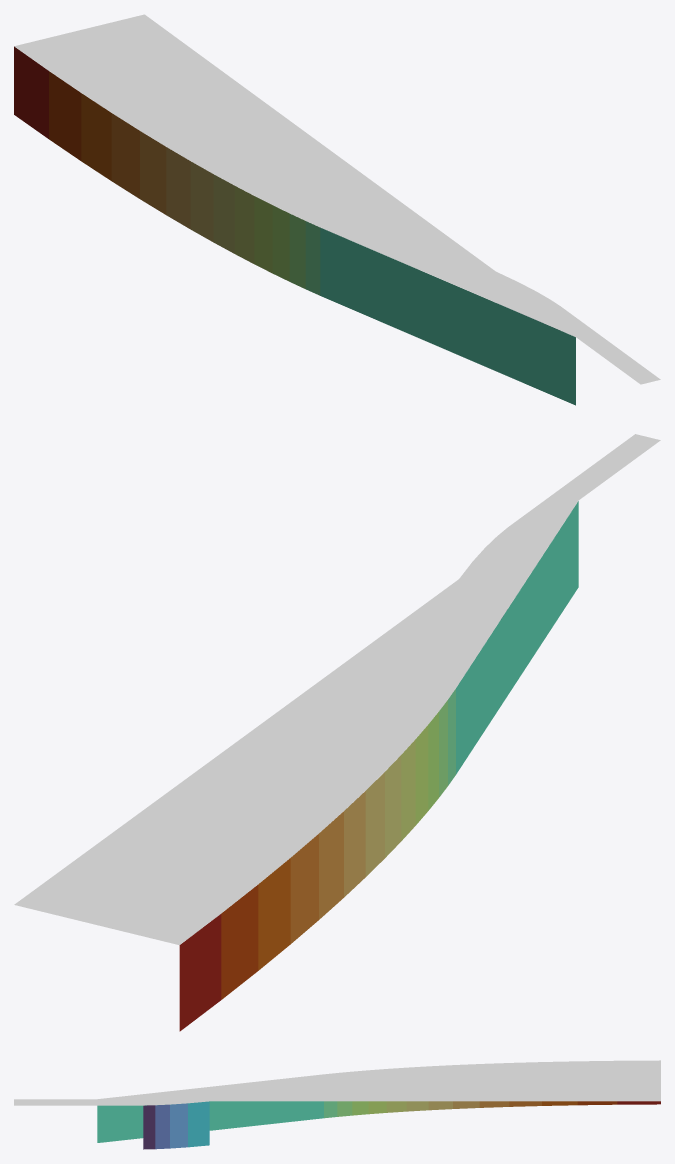
Rendered from scramjet_n14_m5.glb.
The picture shows the model from 3 angles, top to bottom: view 1: azimuth 30°, elevation 25°; view 2: azimuth 150°, elevation 25°; view 3: azimuth 270°, elevation 25°; orthographic projection. The views are drawn at different scales.
Parts seen in each view (by area): view 1: Renderer Node; view 2: Renderer Node; view 3: Renderer Node.
Part boxes in pixels (x1,y1,x2,y2): Renderer Node: (14,14,660,405); Renderer Node: (14,434,660,1031); Renderer Node: (14,1060,660,1149).
Size of the model in its own units: 1.1 by 0.5006 by 6.67.
